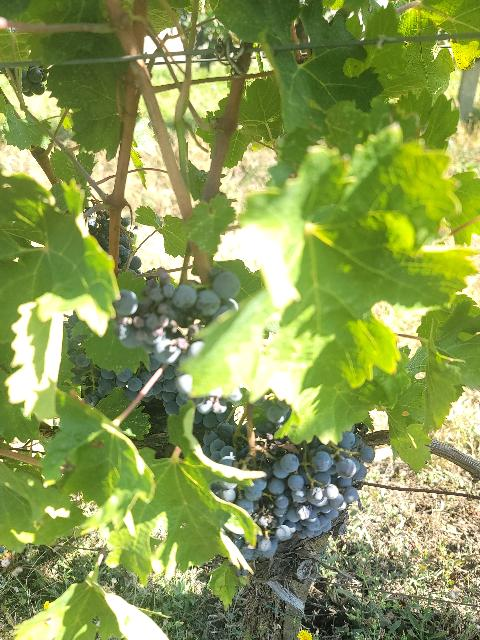grapes: (202, 422, 310, 559), (115, 270, 240, 364), (285, 431, 374, 538)
